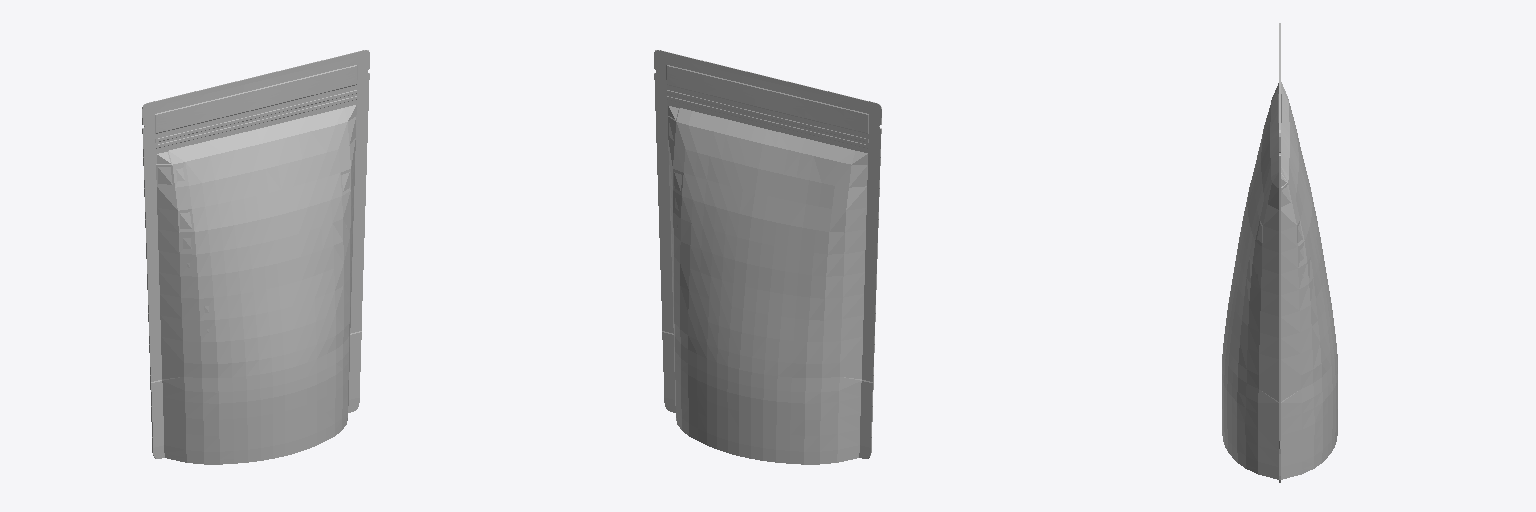
The model's file is pouch-packaging-001.obj.
3 views of the same model, side by side, from view 1: azimuth 30°, elevation 25°; view 2: azimuth 150°, elevation 25°; view 3: azimuth 270°, elevation 25° (orthographic).
Parts seen in each view (by area): view 1: pounch-packaging-001; view 2: pounch-packaging-001; view 3: pounch-packaging-001.
Boxes of the visible parts, x1,y1,x2,y2 form: pounch-packaging-001: [142, 50, 369, 464]; pounch-packaging-001: [654, 50, 881, 464]; pounch-packaging-001: [1222, 23, 1337, 482].
Bounding box in the file's own units: 0.1015 × 0.1524 × 0.0451.